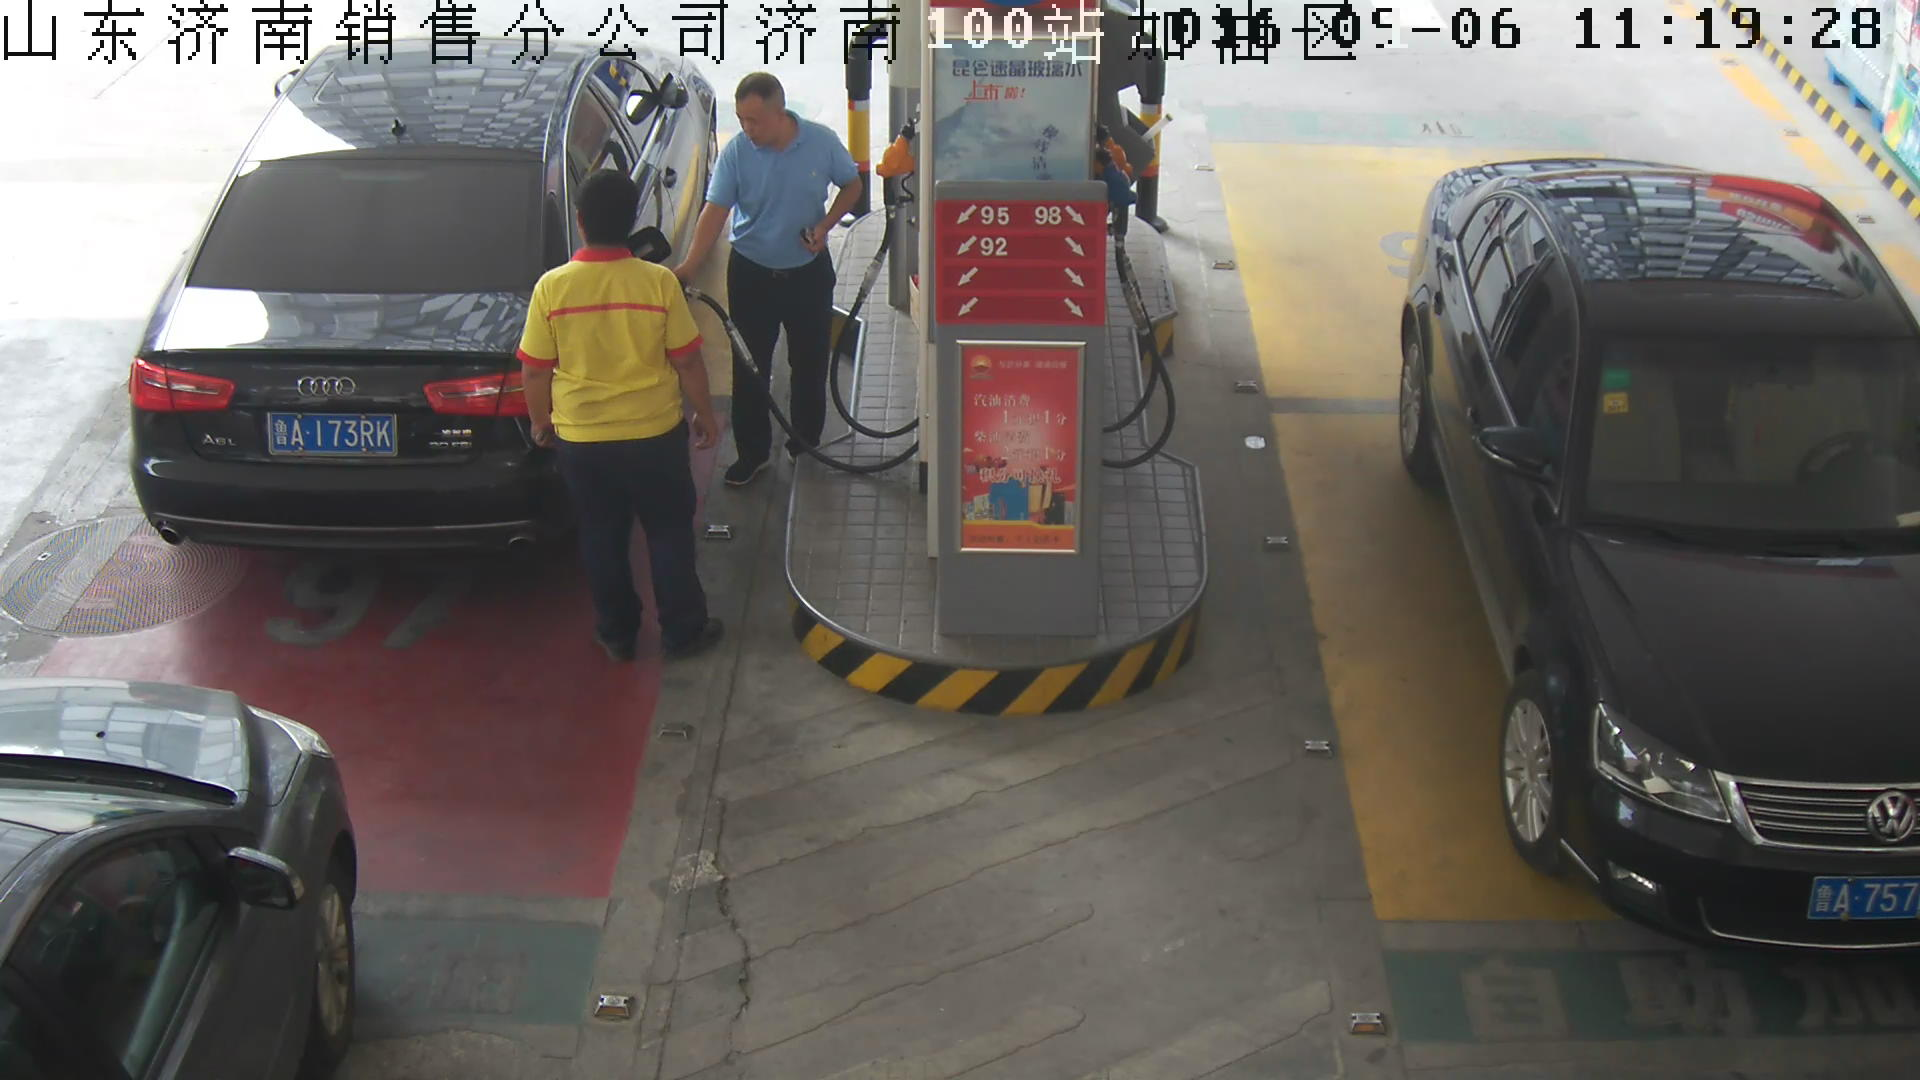blue: (265, 411, 398, 460)
